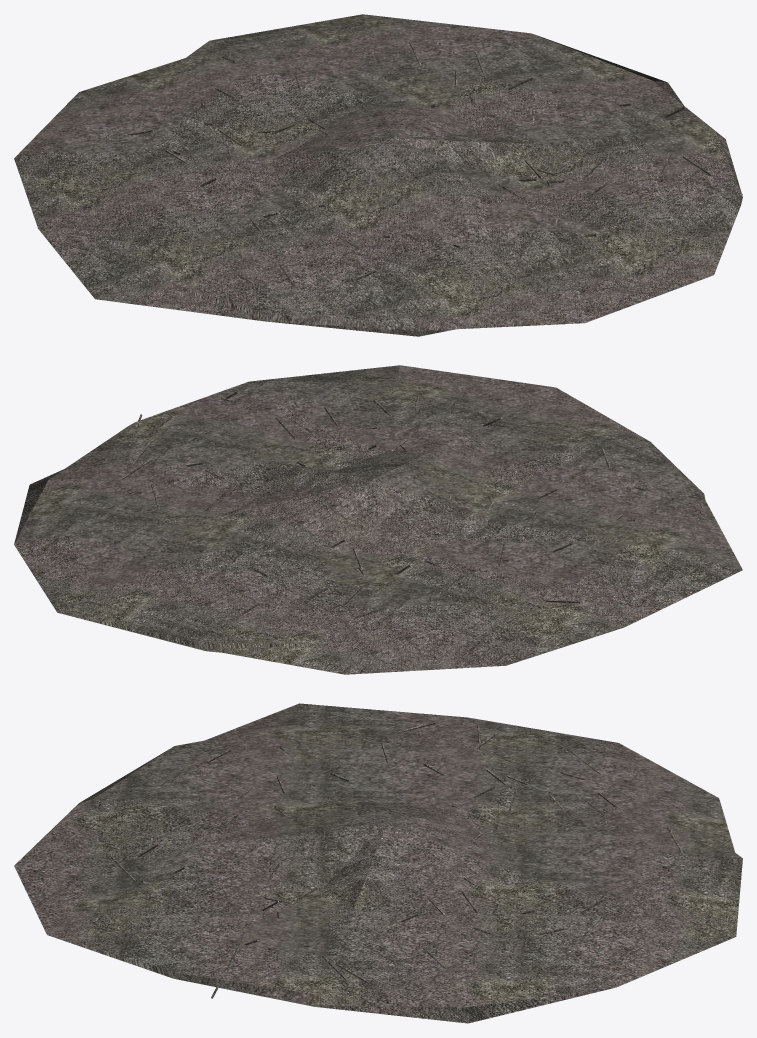
The model's file is straw_patch_a.glb.
The picture shows the model from 3 angles, top to bottom: view 1: azimuth 30°, elevation 25°; view 2: azimuth 150°, elevation 25°; view 3: azimuth 270°, elevation 25°; orthographic projection. The views are drawn at different scales.
Visible parts, largest first — view 1: straw_patch_a_LOD0; view 2: straw_patch_a_LOD0; view 3: straw_patch_a_LOD0.
Boxes of the visible parts, box(x1,y1,x2,y2) form: straw_patch_a_LOD0: box(14, 14, 742, 336); straw_patch_a_LOD0: box(14, 365, 742, 674); straw_patch_a_LOD0: box(14, 703, 742, 1023).
Size of what is drawn, in the model's own units: 1.89 by 0.1864 by 1.86.
1 material, 1 textured.
